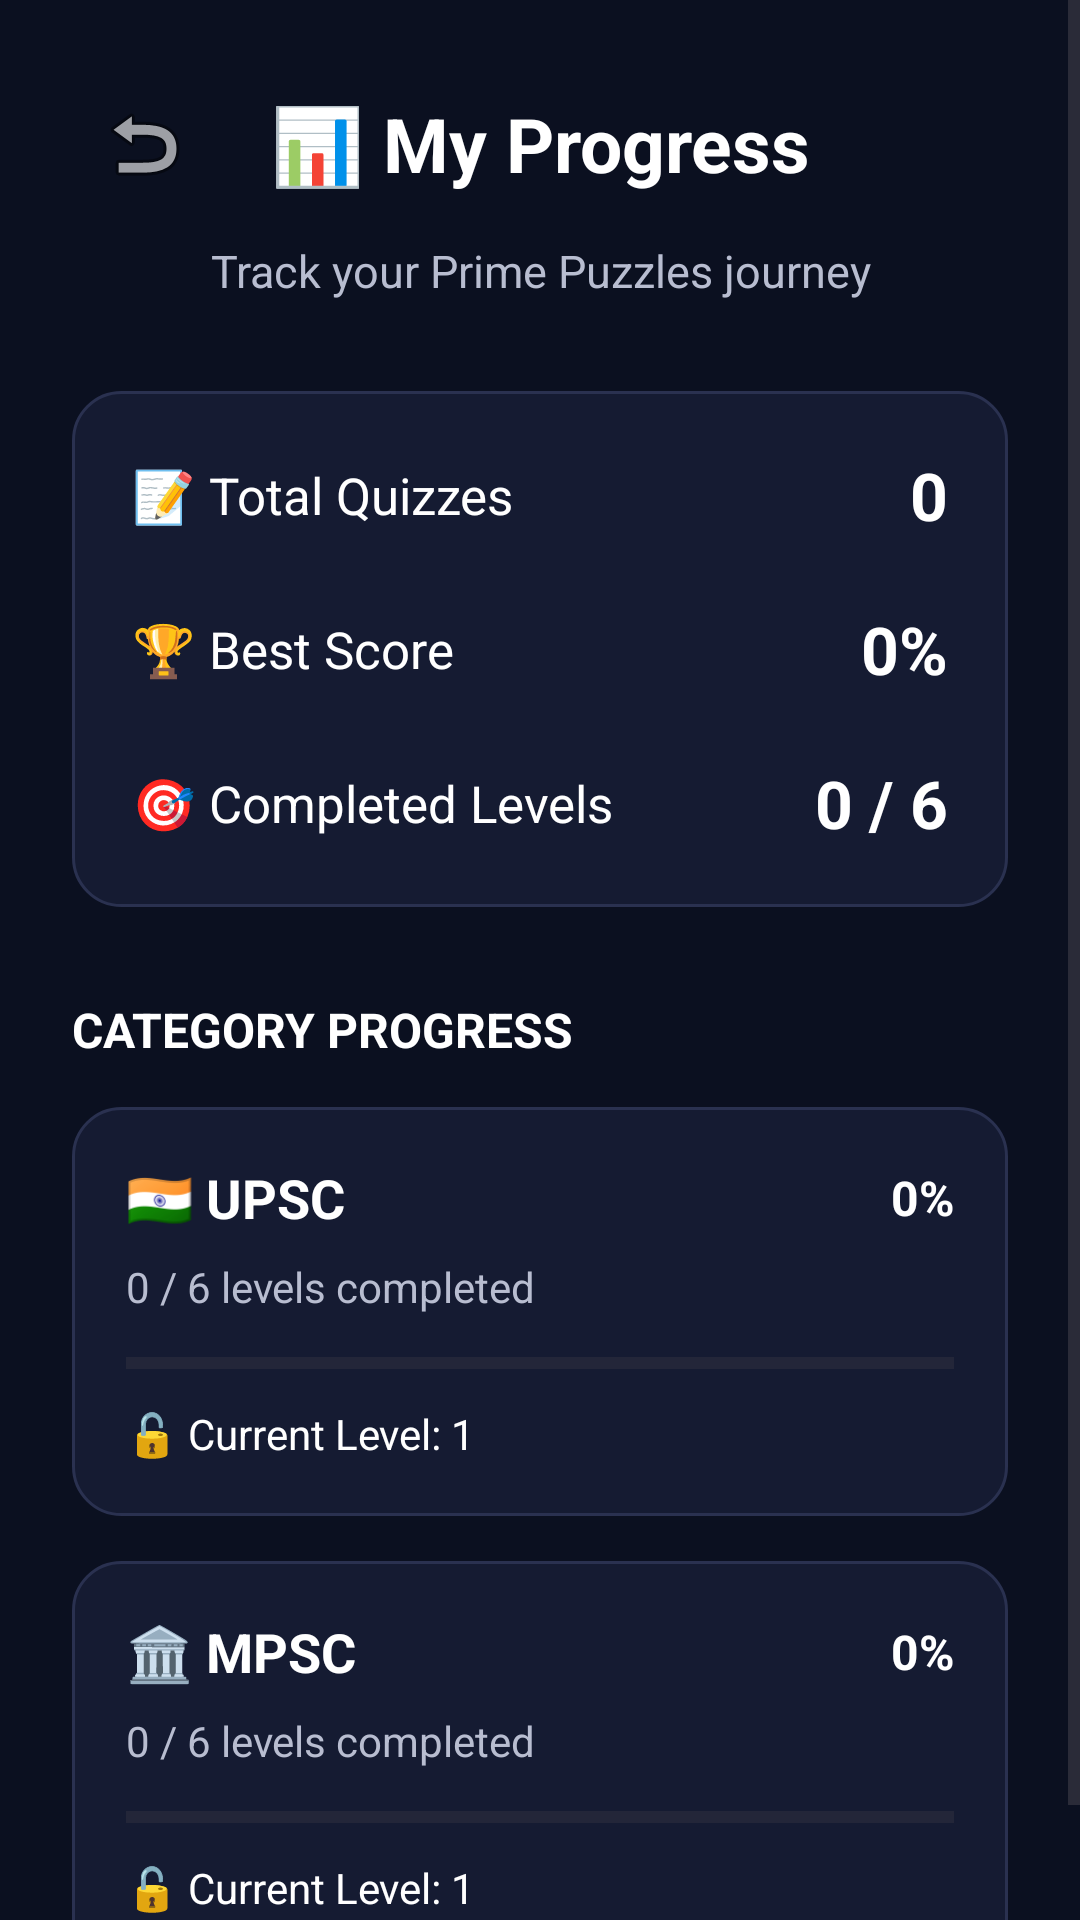

Icon click points for this 1080 × 1920 phone screenshot, format [x,y]:
Back: [145,144]
